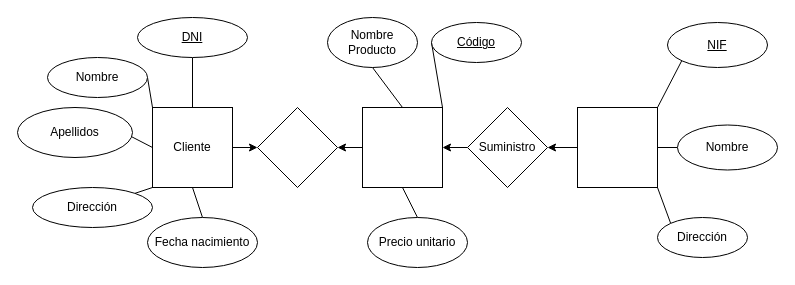
Image size: 795x285. Some labels were removed from this diagram. The shapes that lost their labels are listed below. From the top down, each one's box as (x1, y1, x2, y2) in pixels, then its label:
(256, 106, 338, 188): Compra
(362, 106, 442, 188): Producto
(576, 106, 658, 188): Proveedor
